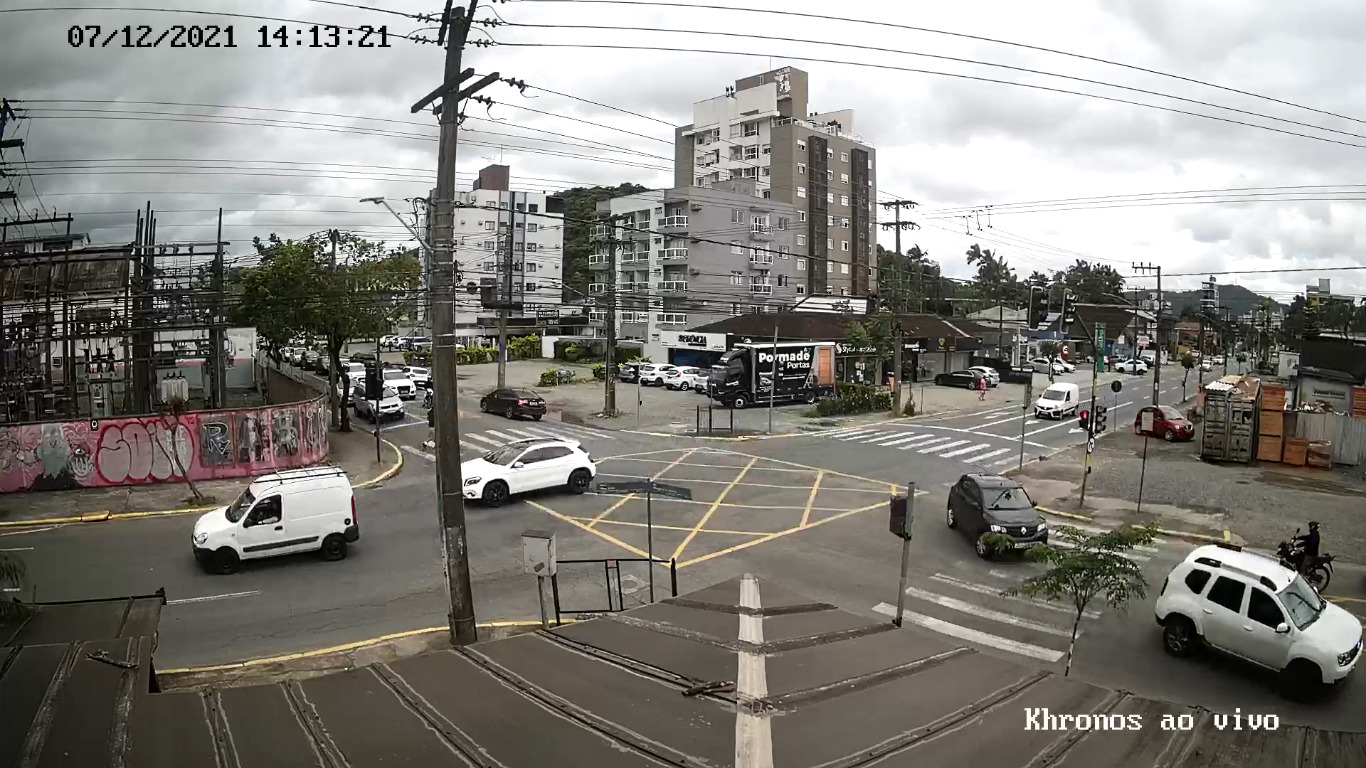car: (1155, 542, 1364, 705), (192, 466, 360, 574), (458, 438, 597, 508), (946, 471, 1049, 562)
